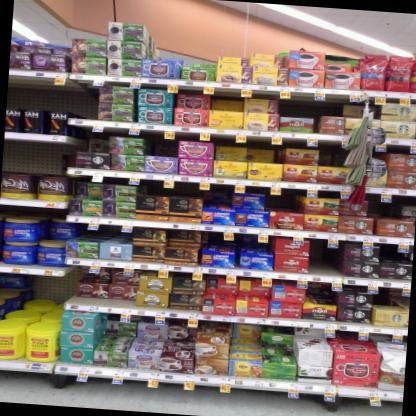empty_space: (311, 247, 339, 279)
